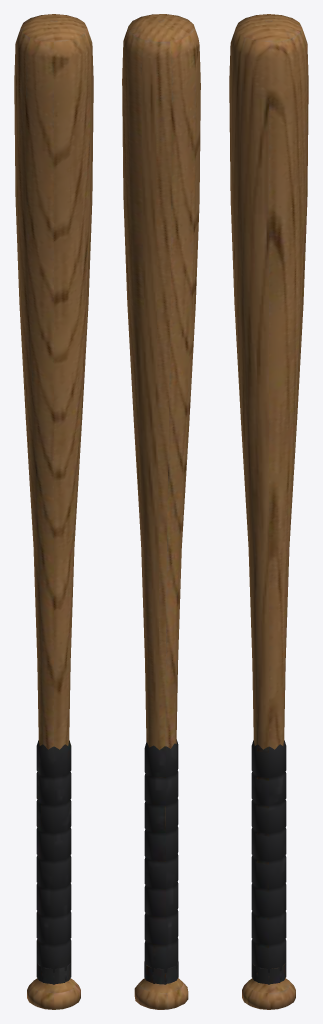
The model's file is wood_bat.glb.
The picture shows the model from 3 angles, left to right: view 1: azimuth 90°, elevation 25°; view 2: azimuth 150°, elevation 25°; view 3: azimuth 270°, elevation 25°; orthographic projection.
Visible parts, largest first — view 1: Bat_Wood; view 2: Bat_Wood; view 3: Bat_Wood.
Part boxes in pixels (x1,y1,x2,y2): Bat_Wood: (14,14,93,1009); Bat_Wood: (122,14,200,1009); Bat_Wood: (229,14,308,1009).
Size of the model in its own units: 0.062 by 0.843 by 0.062.
Materials: 1 (1 with a texture image).
